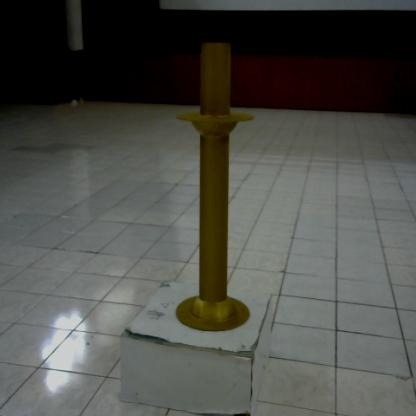pole: (170, 34, 256, 337)
